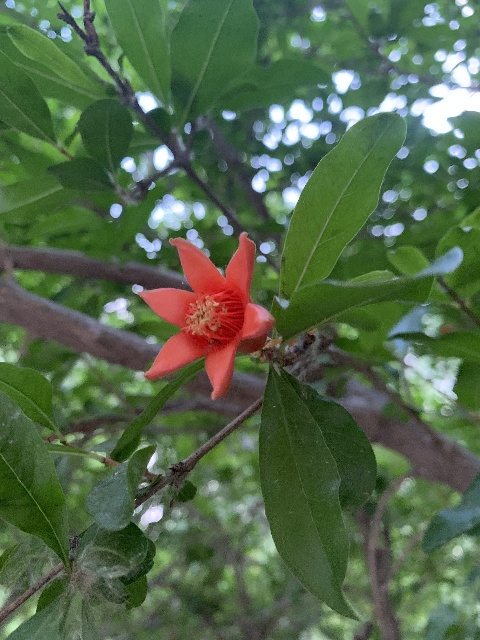flower: (137, 231, 274, 400)
